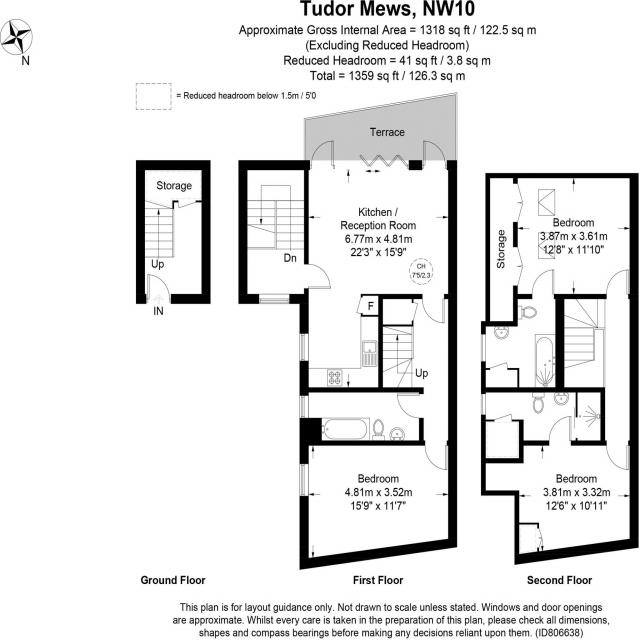DOOR: (420, 138, 448, 171), (308, 139, 334, 171), (146, 274, 172, 304), (424, 440, 449, 471), (547, 415, 572, 446), (605, 440, 630, 471), (304, 263, 332, 290), (396, 392, 424, 419), (421, 294, 446, 324), (605, 269, 630, 298), (531, 269, 555, 299)
ROOM: (299, 137, 458, 393), (481, 416, 639, 565), (299, 439, 457, 570), (517, 173, 639, 299)
SLIDING DOOR: (334, 152, 410, 172)
WINDOW: (258, 293, 290, 305), (299, 463, 309, 497), (298, 332, 309, 362), (299, 395, 309, 419), (480, 334, 486, 362), (481, 393, 486, 416)
